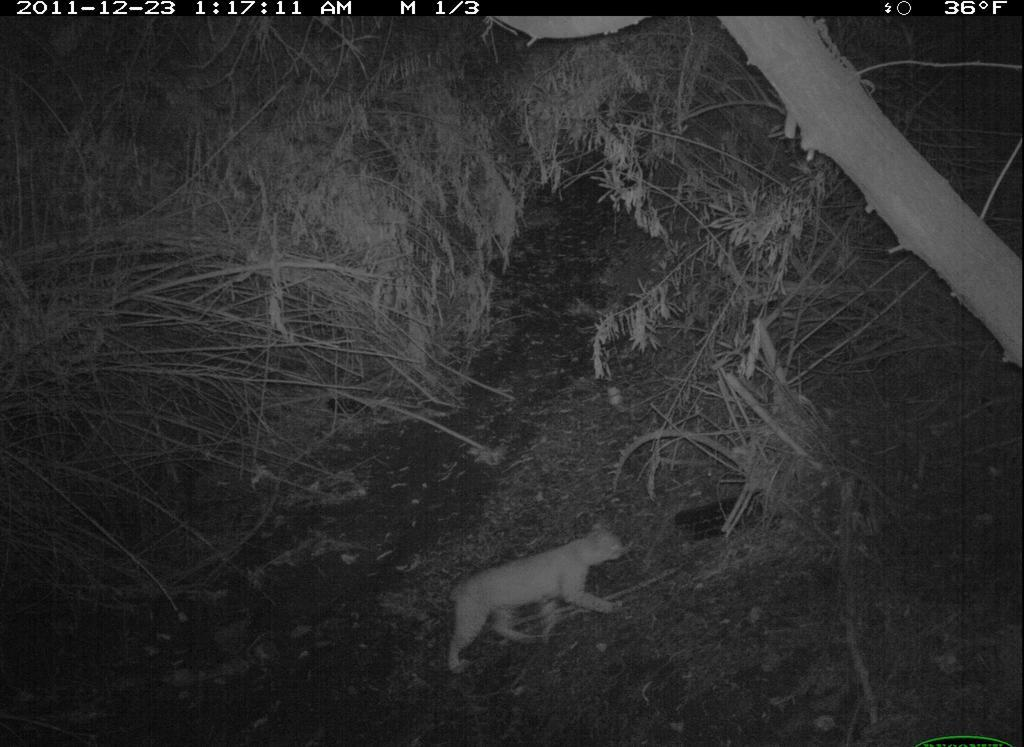bobcat: (433, 516, 646, 678)
